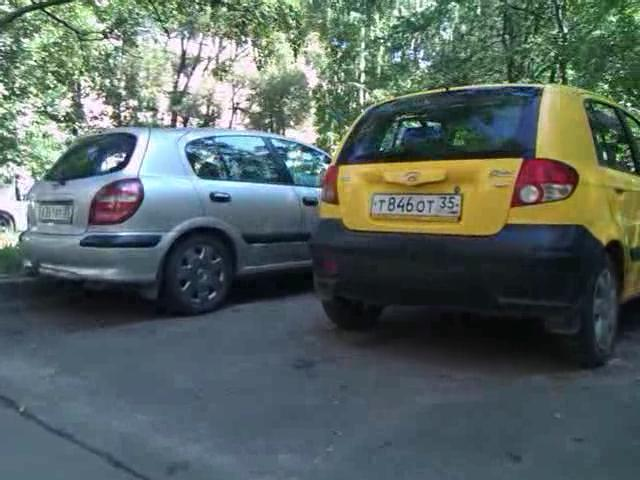car license plate: (367, 191, 464, 225), (35, 200, 75, 225)
